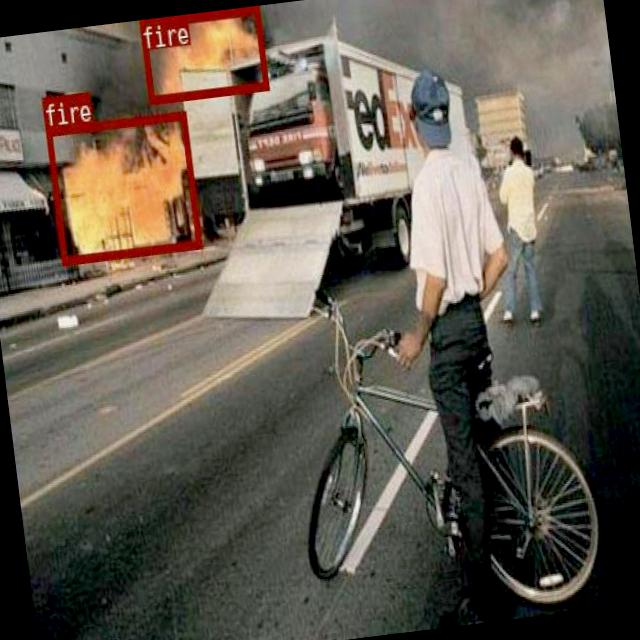fire: (44, 110, 200, 262), (138, 5, 267, 101)
